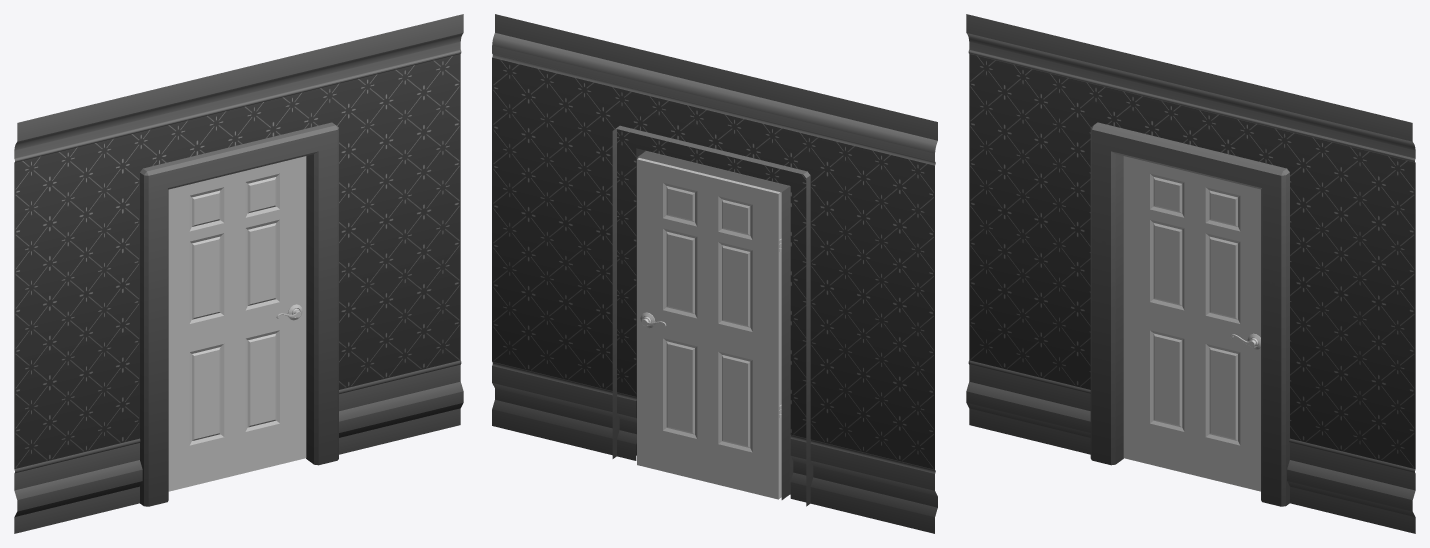
Rendered from Wall_02_Door_02_Light.fbx.
3 renders of one model, left to right at view 1: azimuth 30°, elevation 25°; view 2: azimuth 150°, elevation 25°; view 3: azimuth 330°, elevation 25°, orthographic.
Visible parts, largest first — view 1: Wall_02_Door_02_Light, Door_02; view 2: Wall_02_Door_02_Light, Door_02; view 3: Wall_02_Door_02_Light, Door_02.
Part boxes in pixels (box(x1,y1,x2,y2)): Wall_02_Door_02_Light: box(14, 14, 463, 533); Door_02: box(168, 156, 306, 491); Wall_02_Door_02_Light: box(492, 14, 937, 533); Door_02: box(637, 158, 781, 499); Wall_02_Door_02_Light: box(966, 14, 1415, 533); Door_02: box(1123, 156, 1260, 491).
Size of the model in its own units: 3 by 2.65 by 0.1764.
